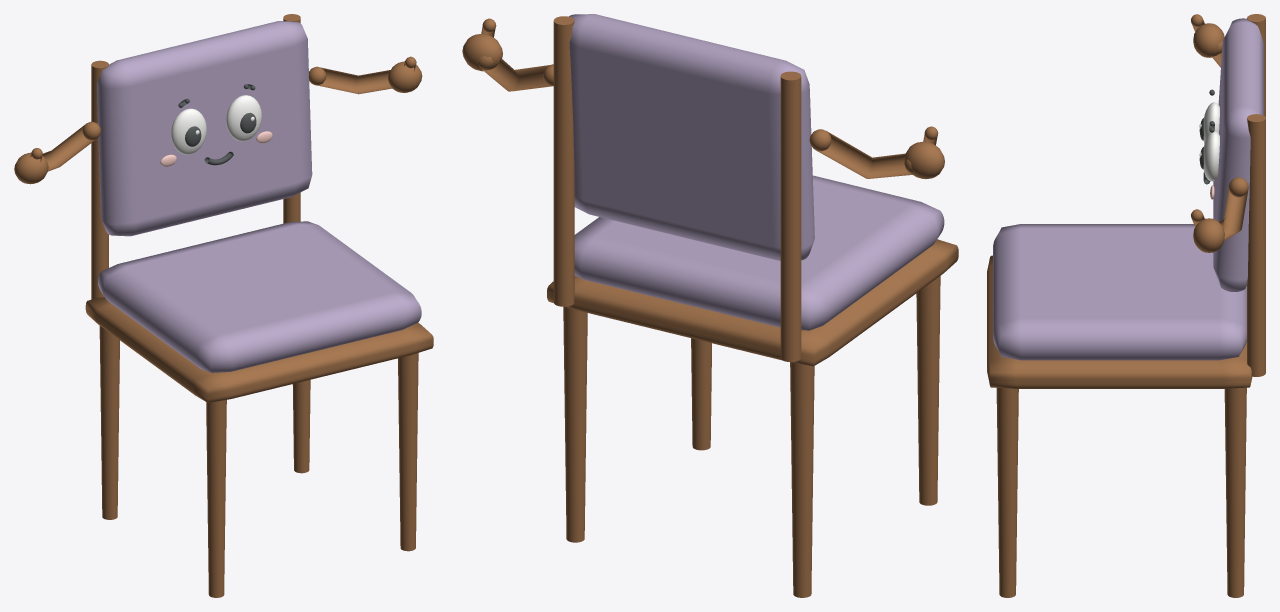
The model's file is chair.glb.
3 views of the same model, side by side, from view 1: azimuth 30°, elevation 25°; view 2: azimuth 150°, elevation 25°; view 3: azimuth 270°, elevation 25° (orthographic). The views are drawn at different scales.
Parts seen in each view (by area): view 1: fabric, frame, armR, armL, eyeballR, eyeballL; view 2: fabric, frame, armL, armR; view 3: fabric, frame, armR, armL, eyeballR, eyeballL.
Boxes of the visible parts, box(x1,y1,x2,y2) form: fabric: box(97, 21, 421, 372); frame: box(85, 14, 433, 597); armR: box(309, 56, 422, 94); armL: box(14, 121, 100, 184); eyeballR: box(226, 95, 261, 141); eyeballL: box(171, 108, 206, 154); fabric: box(569, 14, 944, 330); frame: box(547, 16, 958, 597); armL: box(809, 126, 944, 179); armR: box(462, 18, 553, 91); fabric: box(993, 18, 1263, 360); frame: box(987, 14, 1265, 597); armR: box(1191, 177, 1248, 252); armL: box(1191, 14, 1224, 67); eyeballR: box(1203, 131, 1219, 181); eyeballL: box(1203, 102, 1219, 143).
Size of the model in its own units: 1.89 by 2 by 1.06.
